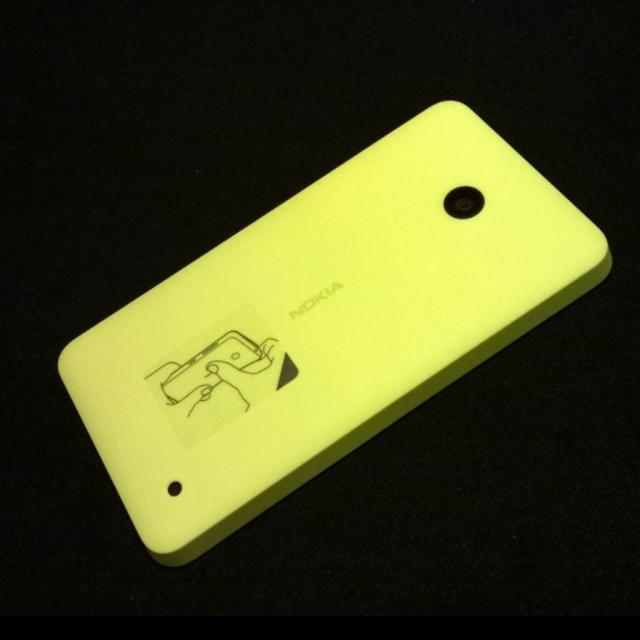Mobile-phone: (22, 97, 631, 565)
